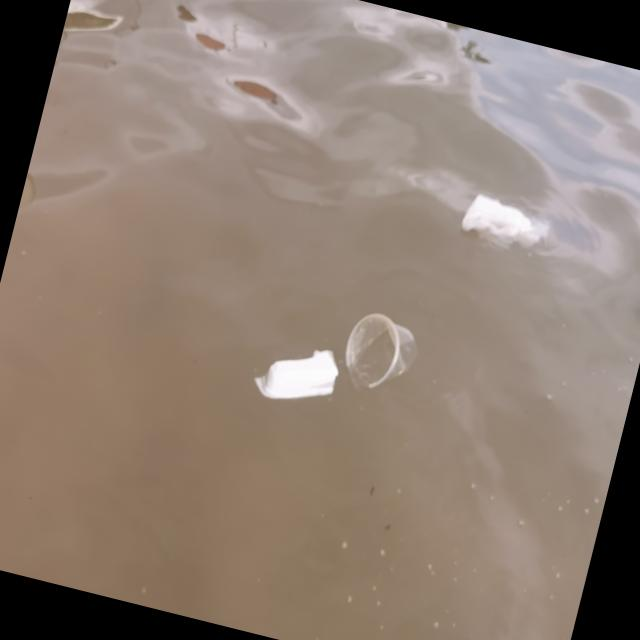foam: (245, 330, 345, 419)
plastic bottle: (335, 310, 420, 396), (454, 190, 552, 256)
